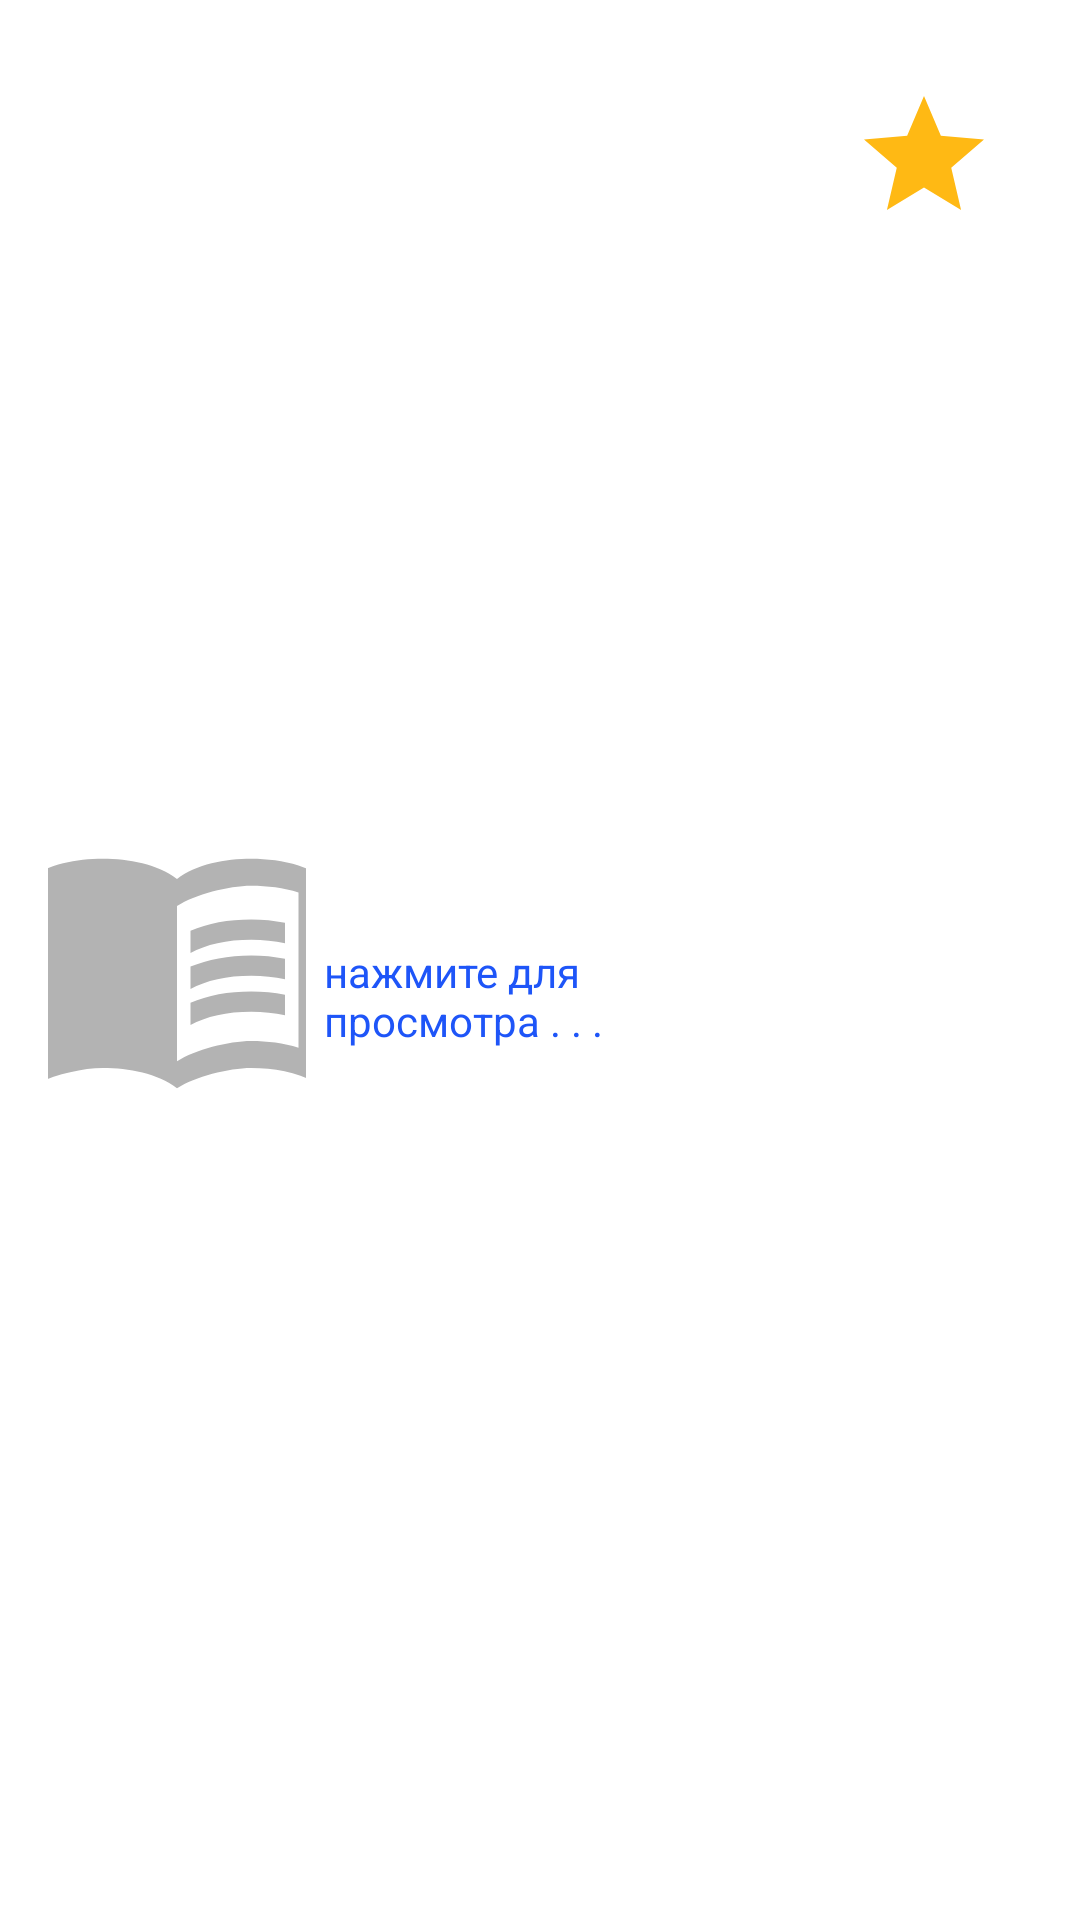

Screen size 1080×1920. Icon name, then its center in pixels as (x,y):
book: (177,973)
star: (924,153)
